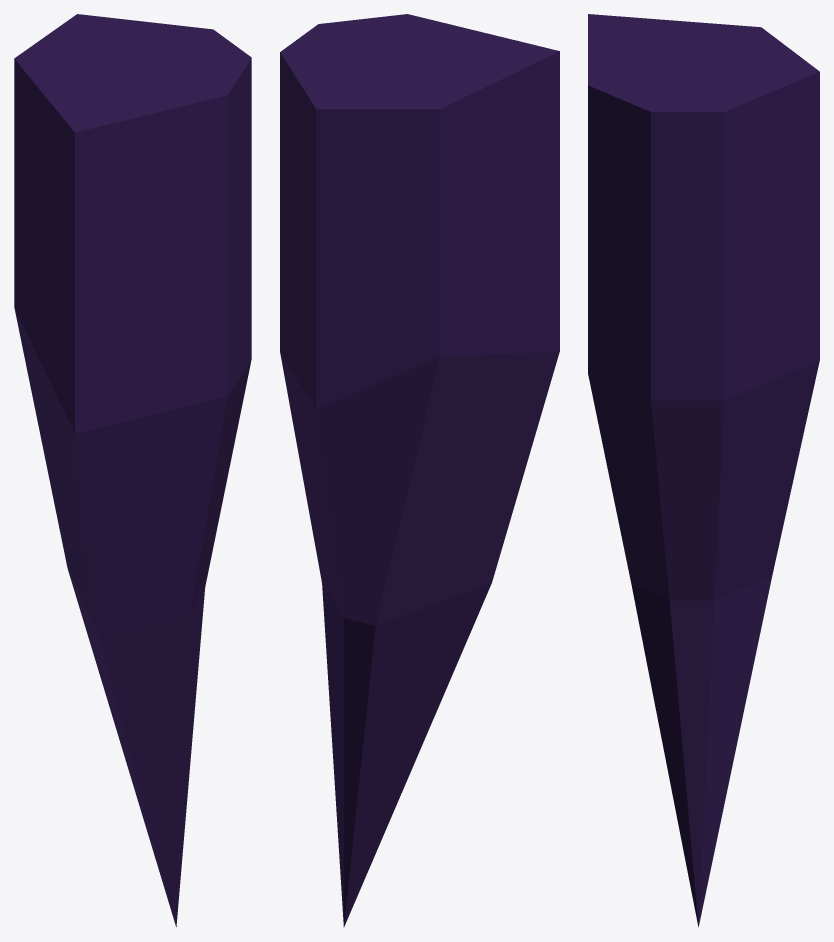
The model's file is stalactite_003_grp.fbx.
3 views of the same model, side by side, from view 1: azimuth 30°, elevation 25°; view 2: azimuth 150°, elevation 25°; view 3: azimuth 270°, elevation 25° (orthographic). The views are drawn at different scales.
Parts seen in each view (by area): view 1: stalactite_003_grp; view 2: stalactite_003_grp; view 3: stalactite_003_grp.
Boxes of the visible parts, left/top/right/bottom form: stalactite_003_grp: left=14, top=14, right=251, bottom=926; stalactite_003_grp: left=280, top=14, right=559, bottom=926; stalactite_003_grp: left=588, top=14, right=819, bottom=927.
Bounding box in the file's own units: 100 × 400 × 100.
